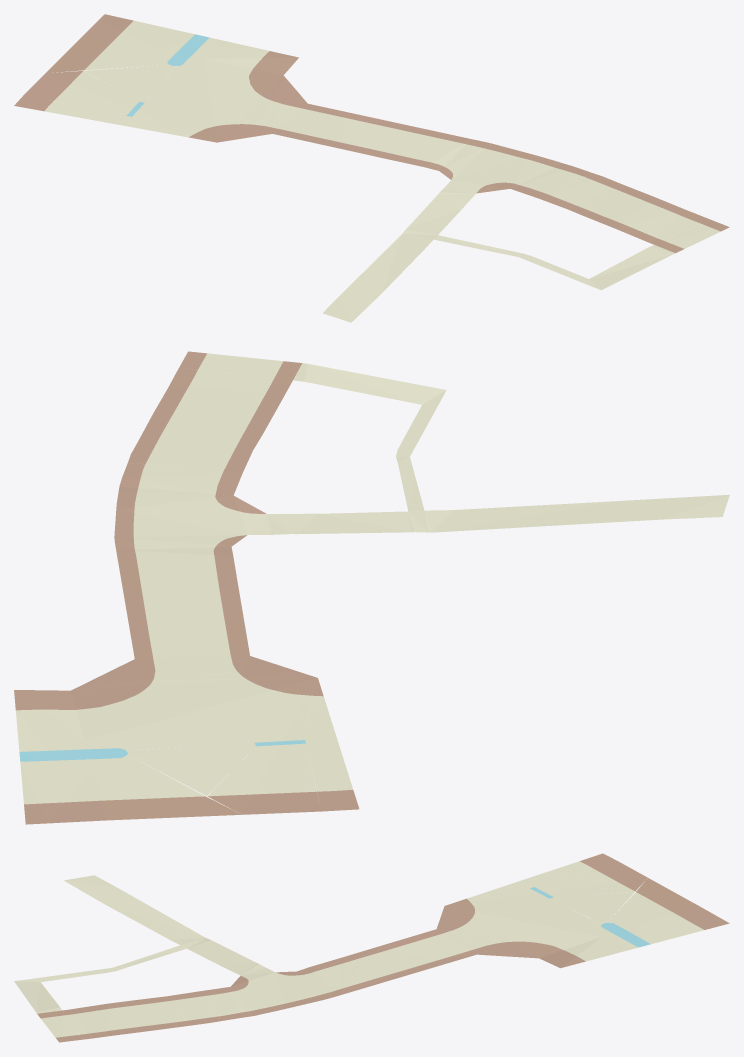
The model's file is data46.glb.
3 views of the same model, one above another, from view 1: azimuth 30°, elevation 25°; view 2: azimuth 150°, elevation 25°; view 3: azimuth 270°, elevation 25° (orthographic). The views are drawn at different scales.
Bounding box in the file's own units: 87.61 × 2.68 × 143.
